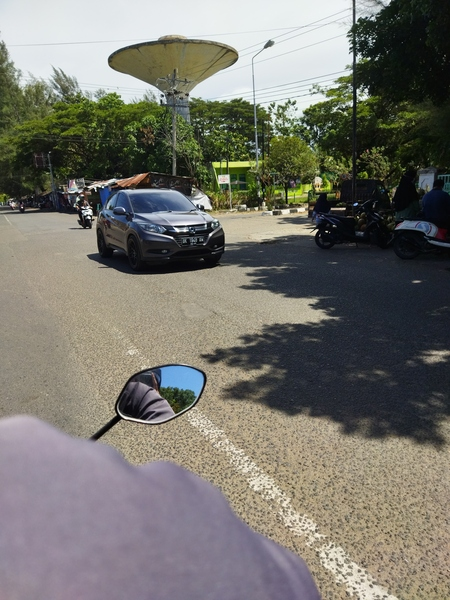car: (94, 187, 227, 274)
motorcycle: (311, 197, 390, 252), (389, 212, 450, 260)
